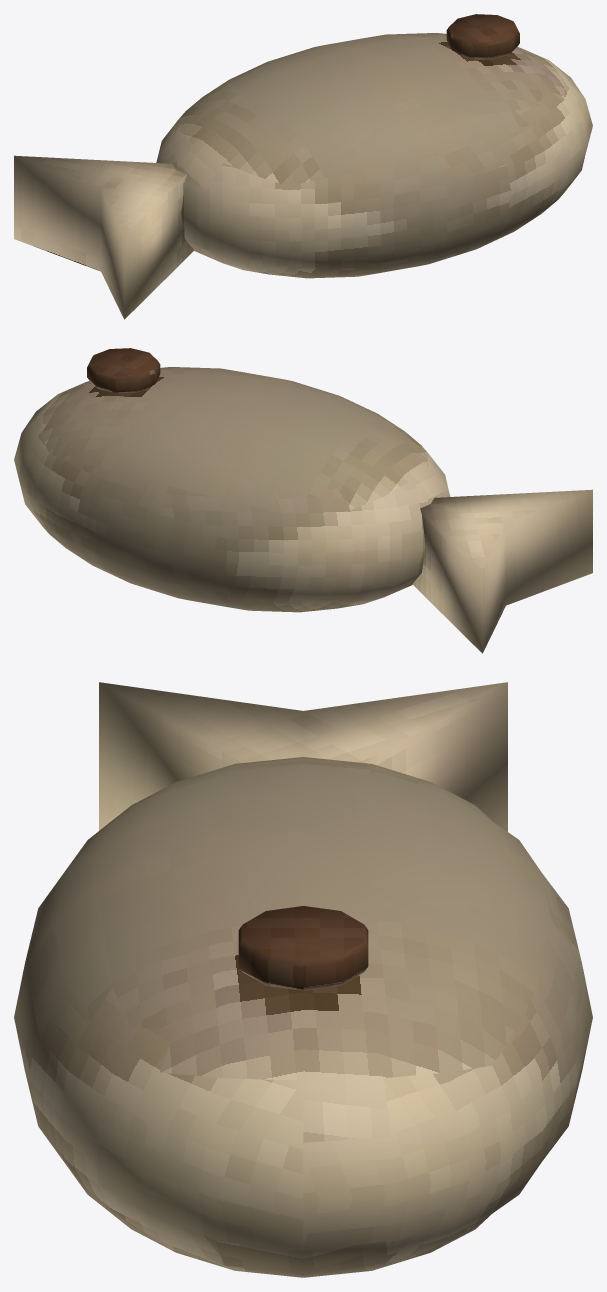
Rendered from pellet_taiyaki.glb.
3 renders of one model, top to bottom at view 1: azimuth 30°, elevation 25°; view 2: azimuth 150°, elevation 25°; view 3: azimuth 270°, elevation 25°, orthographic. The views are drawn at different scales.
Visible parts, largest first — view 1: prop_pellet_taiyaki_felt; view 2: prop_pellet_taiyaki_felt; view 3: prop_pellet_taiyaki_felt.
Part boxes in pixels (box(x1,y1,x2,y2)): prop_pellet_taiyaki_felt: box(14, 14, 592, 319); prop_pellet_taiyaki_felt: box(14, 348, 592, 653); prop_pellet_taiyaki_felt: box(14, 682, 592, 1277).
Size of the model in its own units: 0.096 by 0.0345 by 0.051.
1 material, 1 textured.
